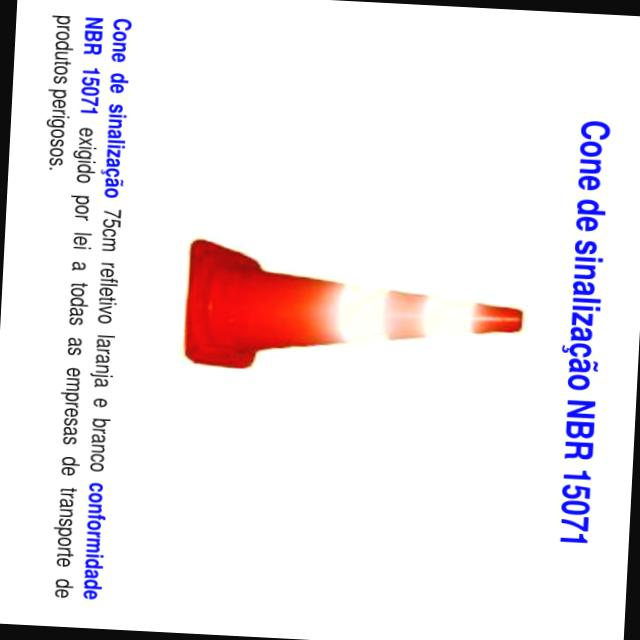cone: (186, 238, 532, 387)
